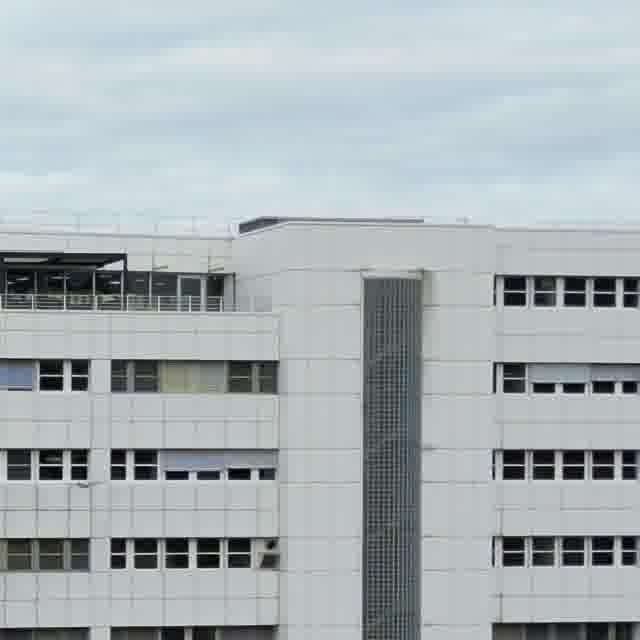Drohne: (77, 481, 98, 487)
